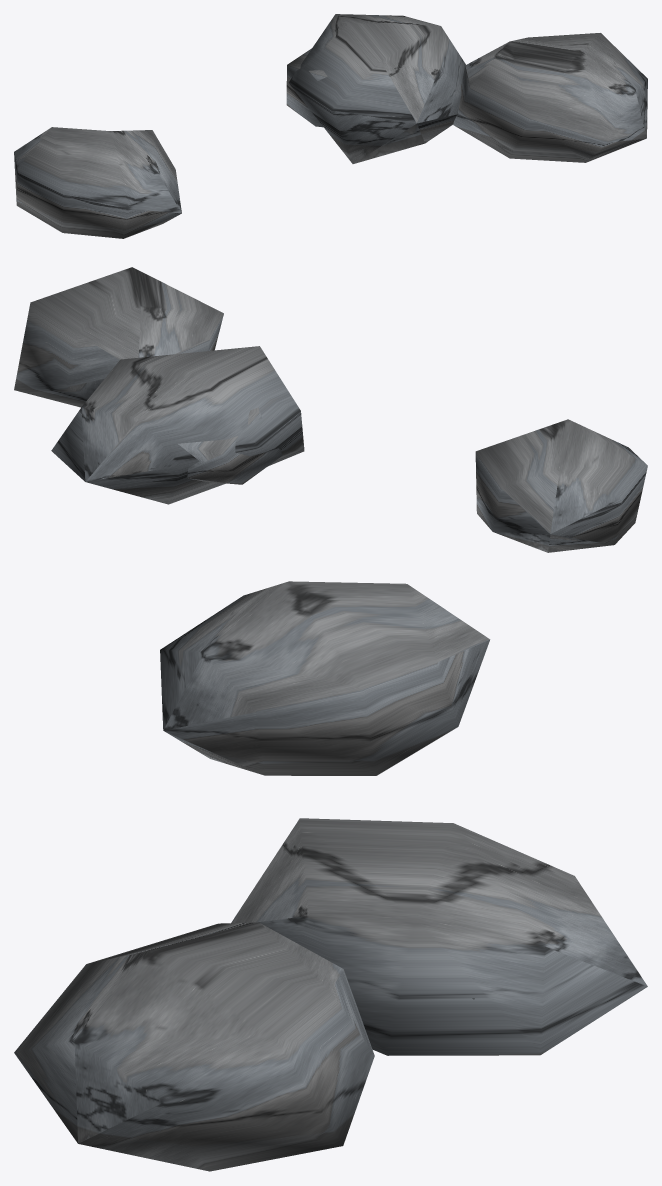
The model's file is rock_pebbles_l1.gltf.
The picture shows the model from 3 angles, top to bottom: view 1: azimuth 30°, elevation 25°; view 2: azimuth 150°, elevation 25°; view 3: azimuth 270°, elevation 25°; orthographic projection. The views are drawn at different scales.
Parts seen in each view (by area): view 1: rock_pebbles_l1; view 2: rock_pebbles_l1; view 3: rock_pebbles_l1.
Boxes of the visible parts, x1=… form: rock_pebbles_l1: x1=14, y1=14, x2=647, y2=238; rock_pebbles_l1: x1=14, y1=267, x2=647, y2=552; rock_pebbles_l1: x1=14, y1=581, x2=647, y2=1171.
Bounding box in the file's own units: 1.96 × 0.3053 × 1.05.
Materials: 1 (1 with a texture image).
